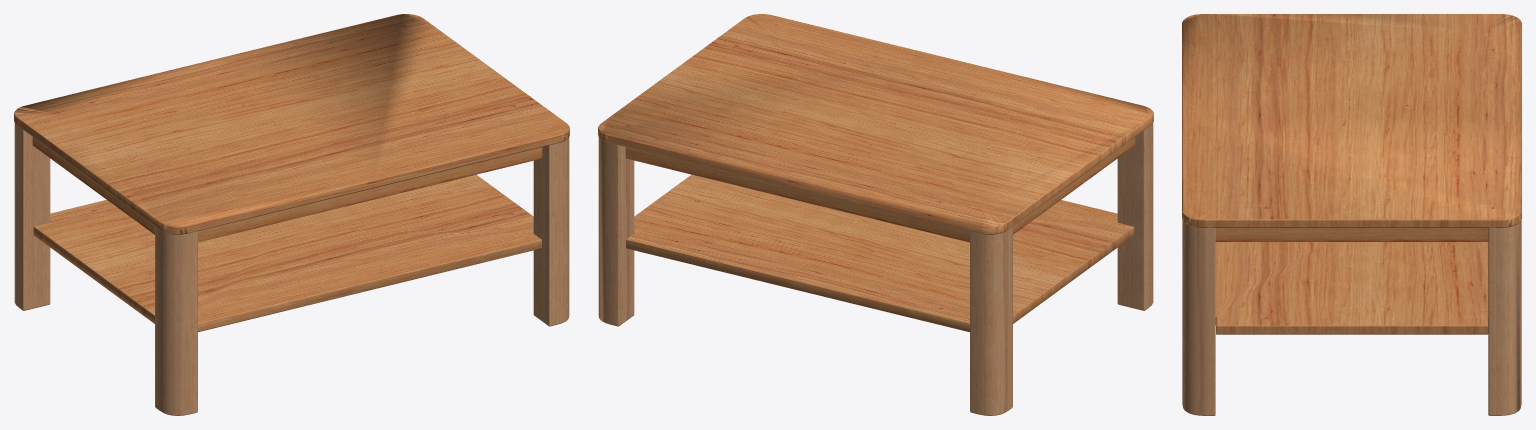
3 renders of one model, left to right at view 1: azimuth 30°, elevation 25°; view 2: azimuth 150°, elevation 25°; view 3: azimuth 270°, elevation 25°, orthographic. The views are drawn at different scales.
Parts seen in each view (by area): view 1: RootNode; view 2: RootNode; view 3: RootNode.
Part boxes in pixels (box(x1,y1,x2,y2)): RootNode: box(14, 14, 569, 415); RootNode: box(598, 14, 1153, 415); RootNode: box(1182, 14, 1521, 415).
Bounding box in the file's own units: 0.9969 × 0.4452 × 0.6955.
1 material, 1 textured.
